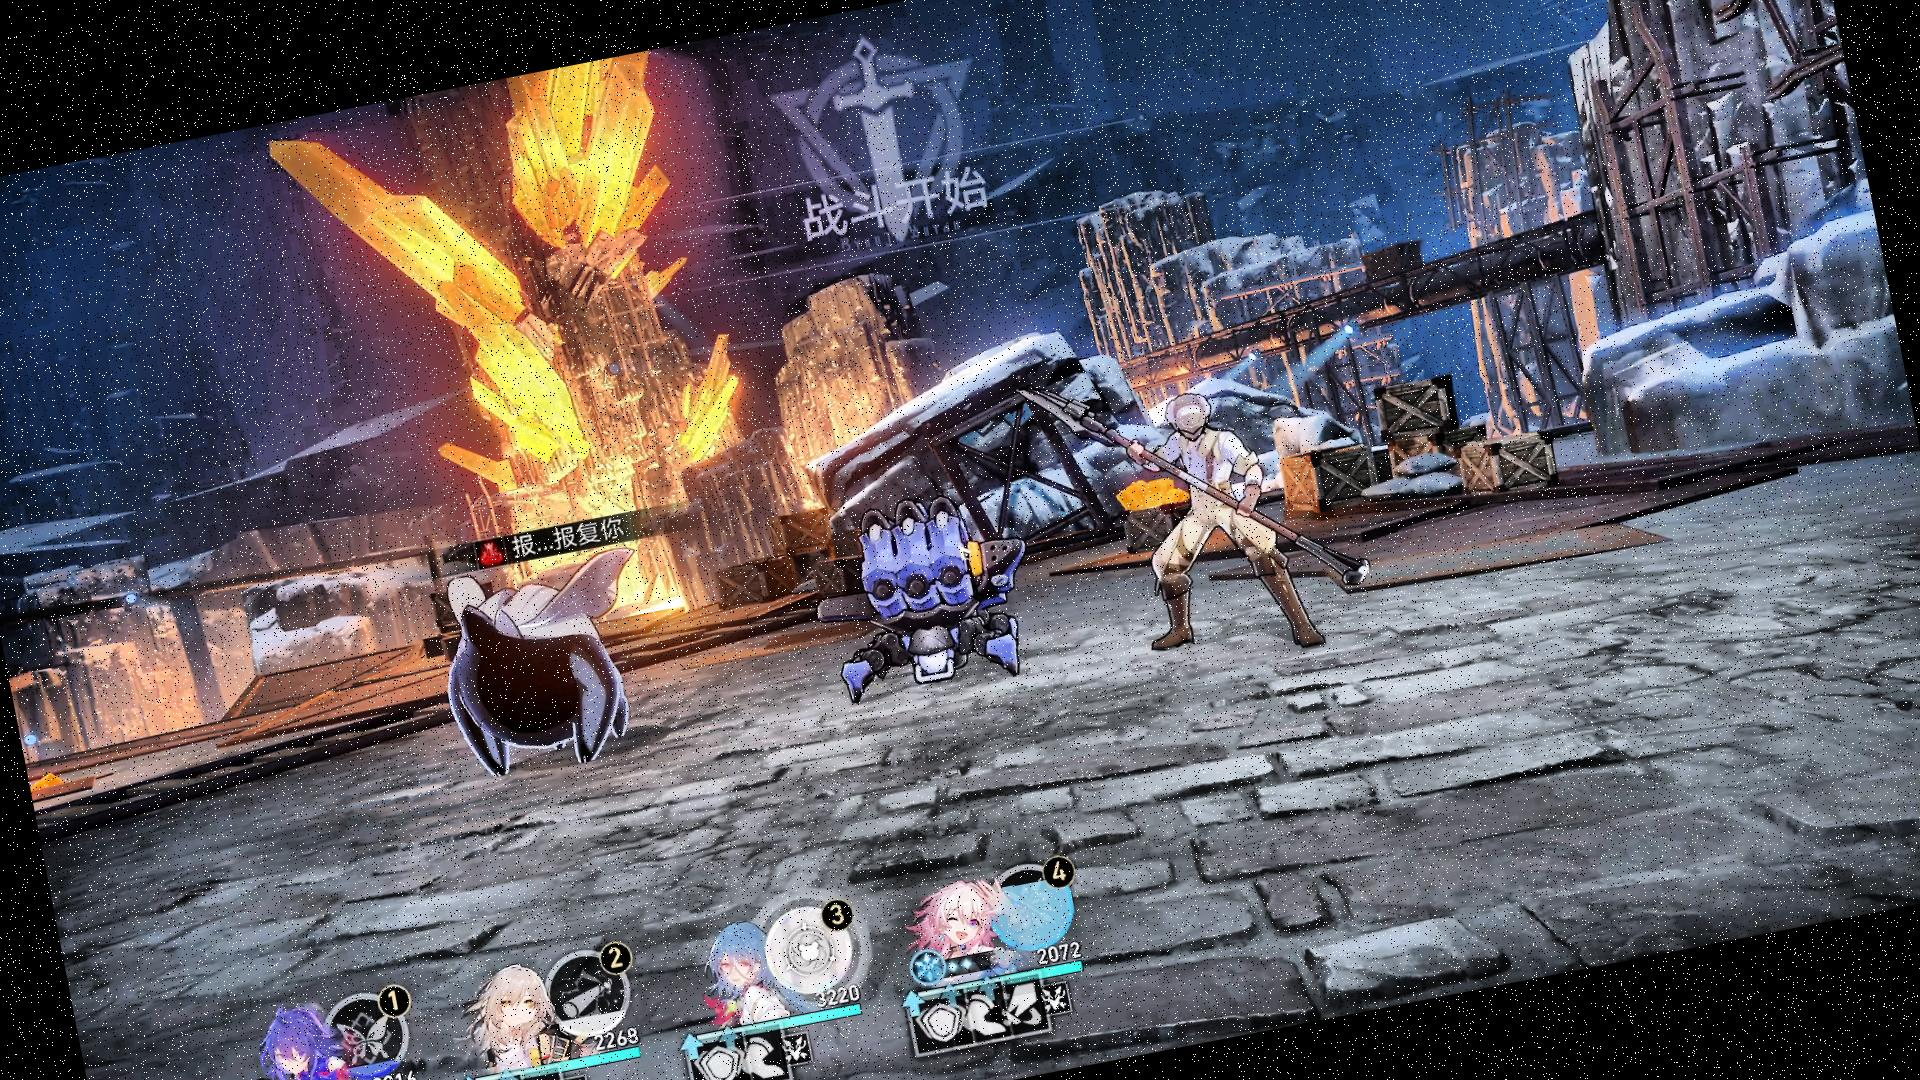Enemy: (396, 525, 698, 825), (1079, 367, 1344, 692), (760, 465, 1071, 731)
